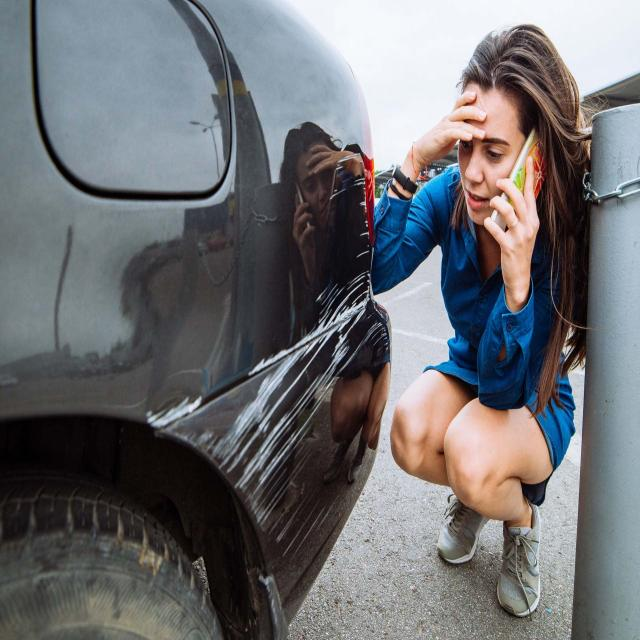scratch: (146, 151, 391, 566)
